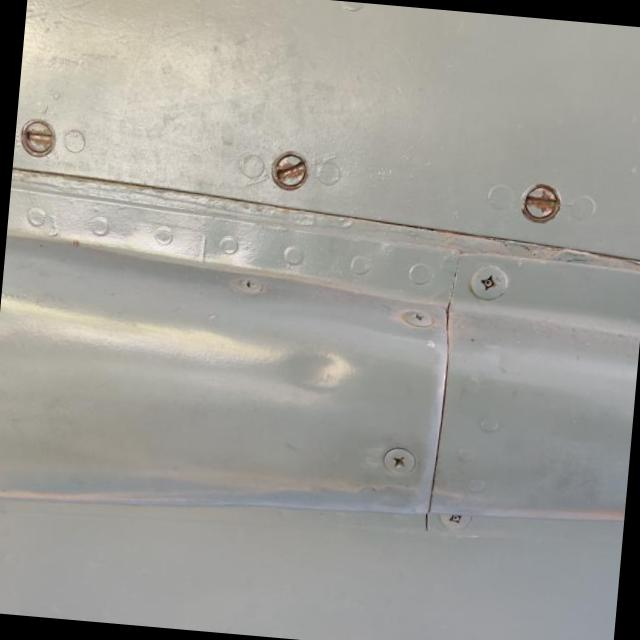Dent: (262, 335, 363, 417)
